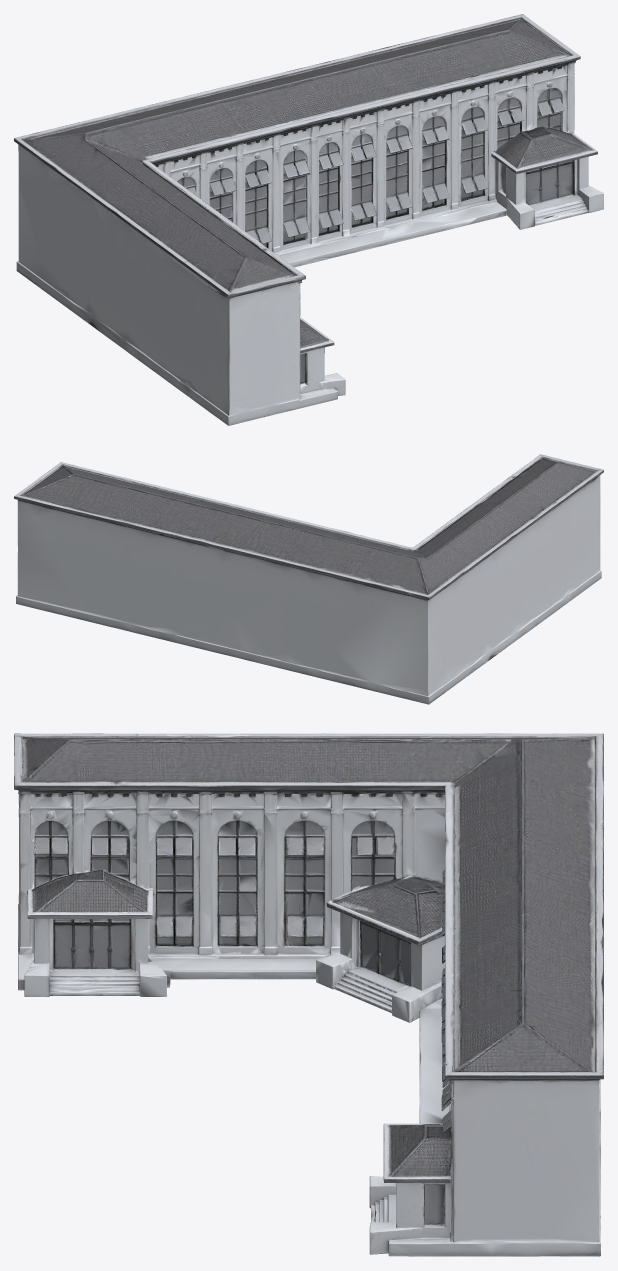
Rendered from toa_c.glb.
3 views of the same model, one above another, from view 1: azimuth 30°, elevation 25°; view 2: azimuth 150°, elevation 25°; view 3: azimuth 270°, elevation 25° (orthographic). The views are drawn at different scales.
Size of the model in its own units: 1.9 by 0.5323 by 1.39.
1 material, 1 textured.
